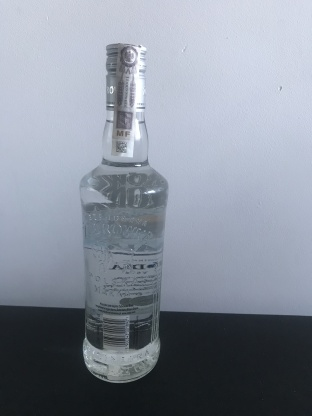nakretka: (103, 38, 149, 116)
